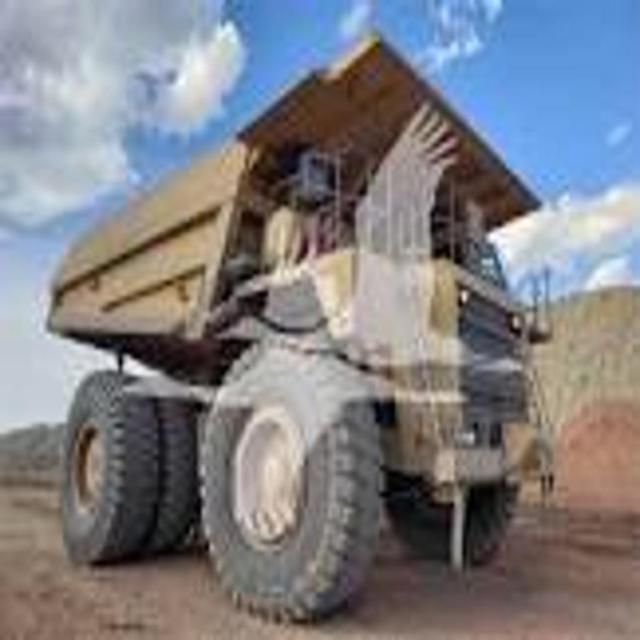dump_truck: (47, 32, 561, 632)
